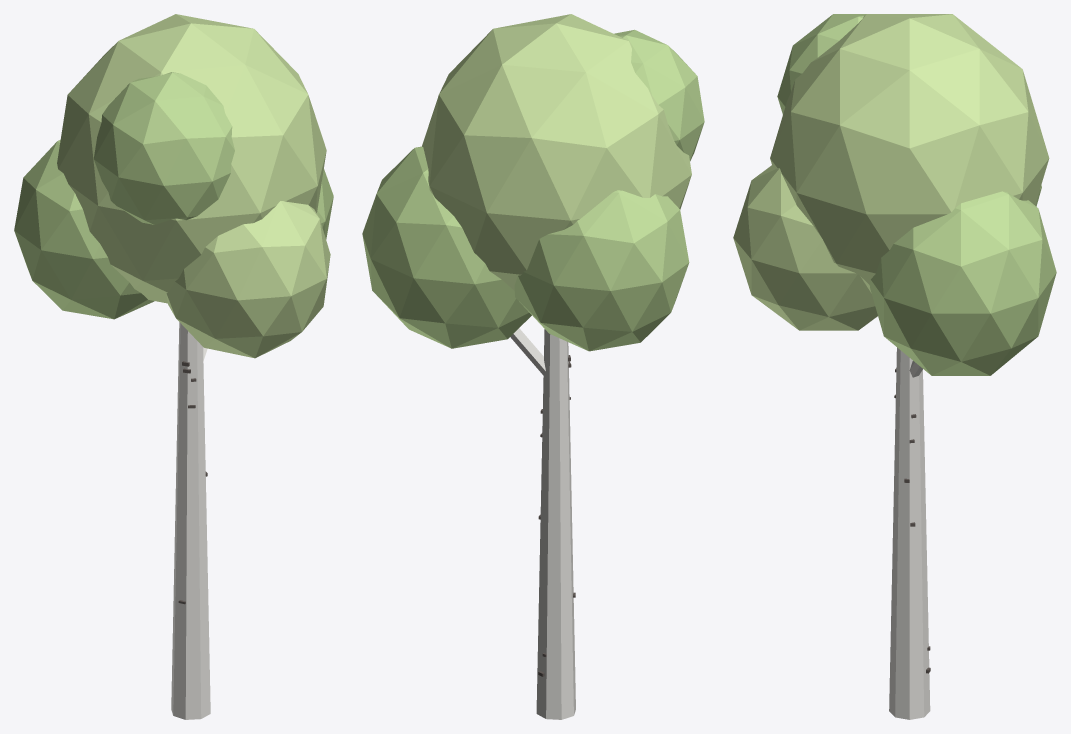
The model's file is th4_birke.glb.
3 renders of one model, left to right at view 1: azimuth 30°, elevation 25°; view 2: azimuth 150°, elevation 25°; view 3: azimuth 270°, elevation 25°, orthographic.
Parts seen in each view (by area): view 1: Birke; view 2: Birke; view 3: Birke.
Boxes of the visible parts, <box> form: Birke: <box>14,14,333,719</box>; Birke: <box>362,14,704,719</box>; Birke: <box>733,14,1056,719</box>.
Size of the model in its own units: 2.33 by 5.2 by 2.2.
